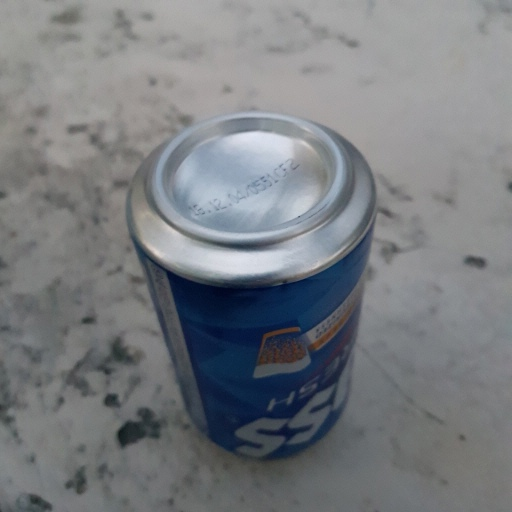Metal_0: (127, 108, 379, 459)
